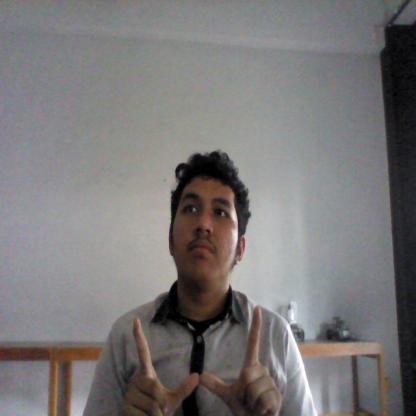W: (125, 305, 284, 416)
